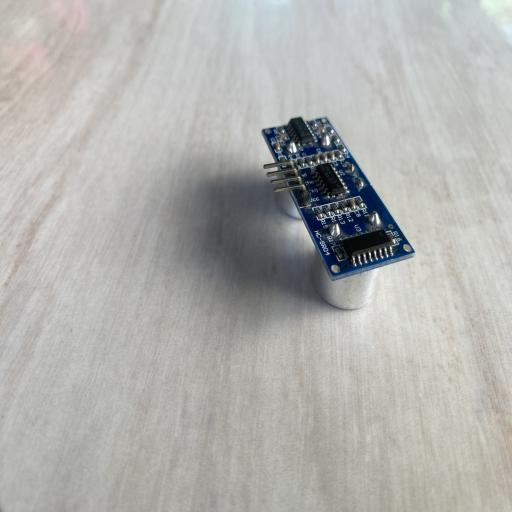Ultrasonic Sensor: (261, 115, 416, 310)
